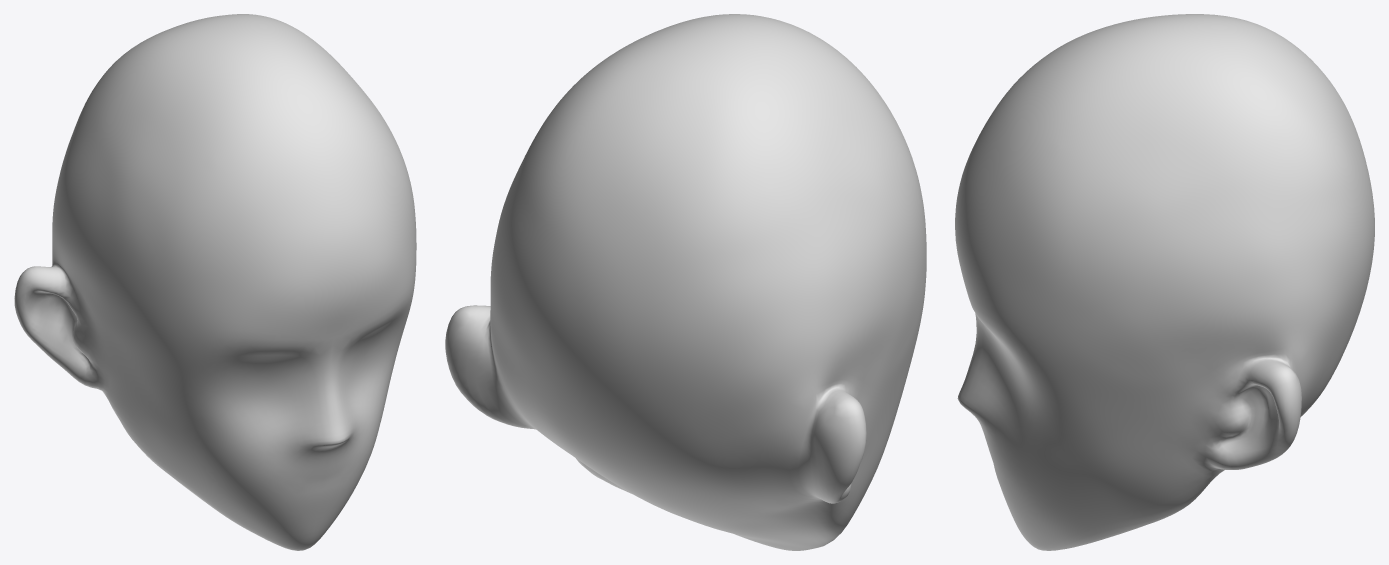
File: Head.glb
3 views of the same model, side by side, from view 1: azimuth 30°, elevation 25°; view 2: azimuth 150°, elevation 25°; view 3: azimuth 270°, elevation 25° (orthographic). The views are drawn at different scales.
Visible parts, largest first — view 1: node_id60; view 2: node_id60; view 3: node_id60.
Boxes of the visible parts, left/top/right/bottom form: node_id60: left=14, top=14, right=416, bottom=550; node_id60: left=445, top=14, right=926, bottom=550; node_id60: left=955, top=14, right=1374, bottom=550.
Size of the model in its own units: 0.406 by 0.5238 by 0.3843.
1 material, 1 textured.
